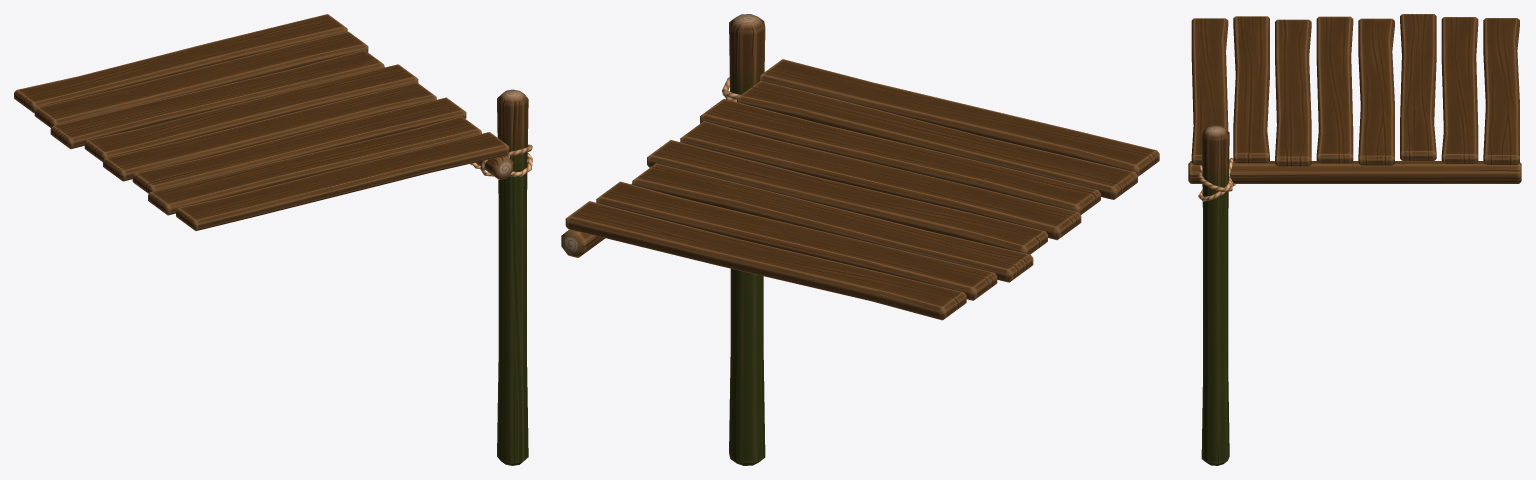
The model's file is Steg.fbx.
3 views of the same model, side by side, from view 1: azimuth 30°, elevation 25°; view 2: azimuth 150°, elevation 25°; view 3: azimuth 270°, elevation 25° (orthographic). The views are drawn at different scales.
Visible parts, largest first — view 1: Corner_right.2; view 2: Corner_right.2; view 3: Corner_right.2.
Part boxes in pixels (bbox=[...]): Corner_right.2: bbox=[14, 14, 532, 465]; Corner_right.2: bbox=[561, 14, 1159, 465]; Corner_right.2: bbox=[1188, 14, 1521, 465].
Size of the model in its own units: 225 by 220 by 200.
